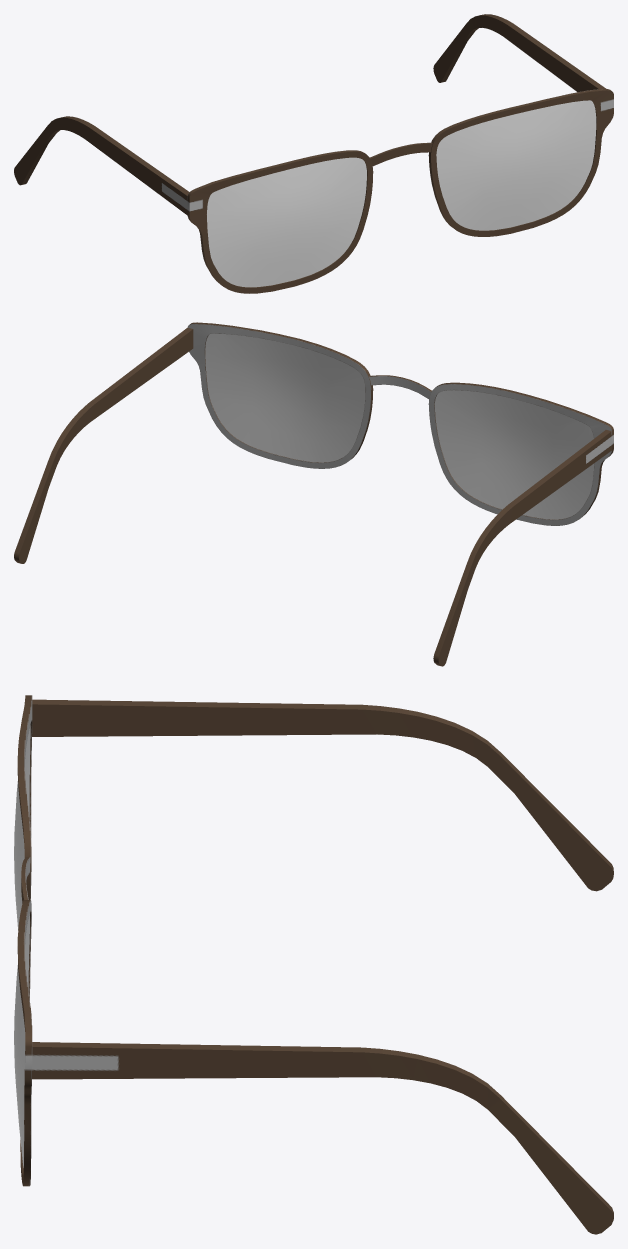
The model's file is PRADA Glasses Optimized Shorter Arms.fbx.
3 renders of one model, top to bottom at view 1: azimuth 30°, elevation 25°; view 2: azimuth 150°, elevation 25°; view 3: azimuth 270°, elevation 25°, orthographic. The views are drawn at different scales.
Parts seen in each view (by area): view 1: PRADA Glasses Optimized Shorter Arms; view 2: PRADA Glasses Optimized Shorter Arms; view 3: PRADA Glasses Optimized Shorter Arms.
Part boxes in pixels (x1=…): PRADA Glasses Optimized Shorter Arms: x1=14, y1=14, x2=613, y2=293; PRADA Glasses Optimized Shorter Arms: x1=14, y1=322, x2=613, y2=666; PRADA Glasses Optimized Shorter Arms: x1=14, y1=695, x2=613, y2=1234.
Size of the model in its own units: 0.1671 by 0.0471 by 0.1219.
